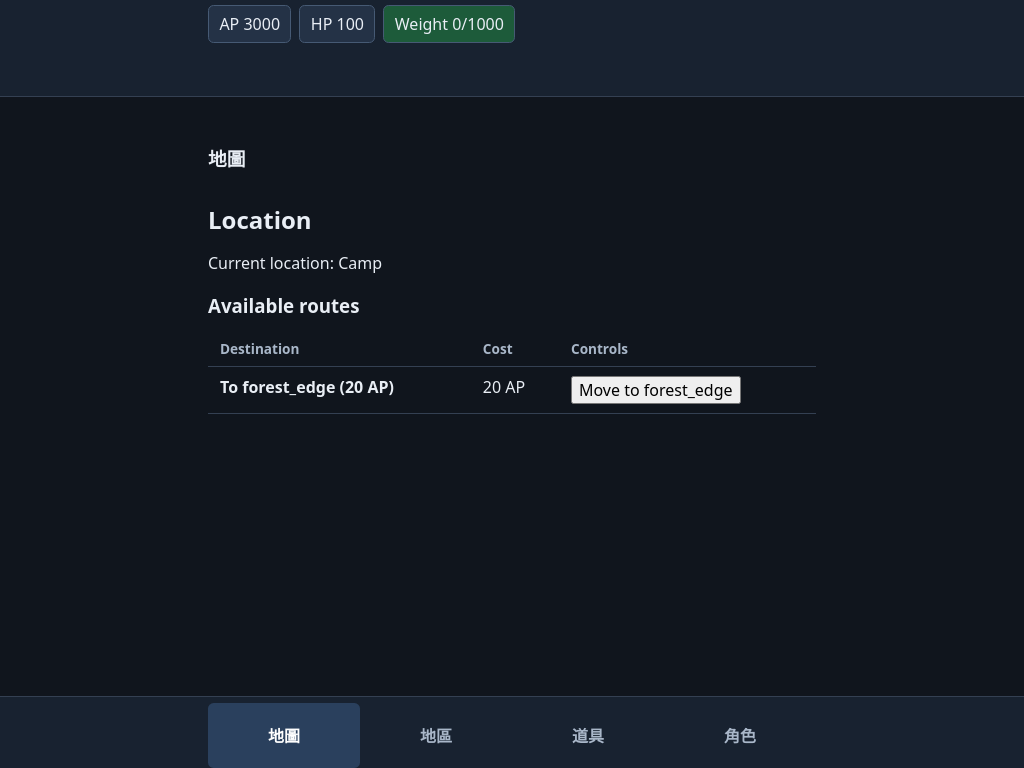
App gameplay tab integration › renames from Character without reloading and applies the authoritative user
The width and height of the screenshot is (1024, 768).
Expected: the heading "地圖" is shown, [208, 146, 245, 171]
Click the button "角色". click: [740, 735]
box: [664, 703, 816, 767]
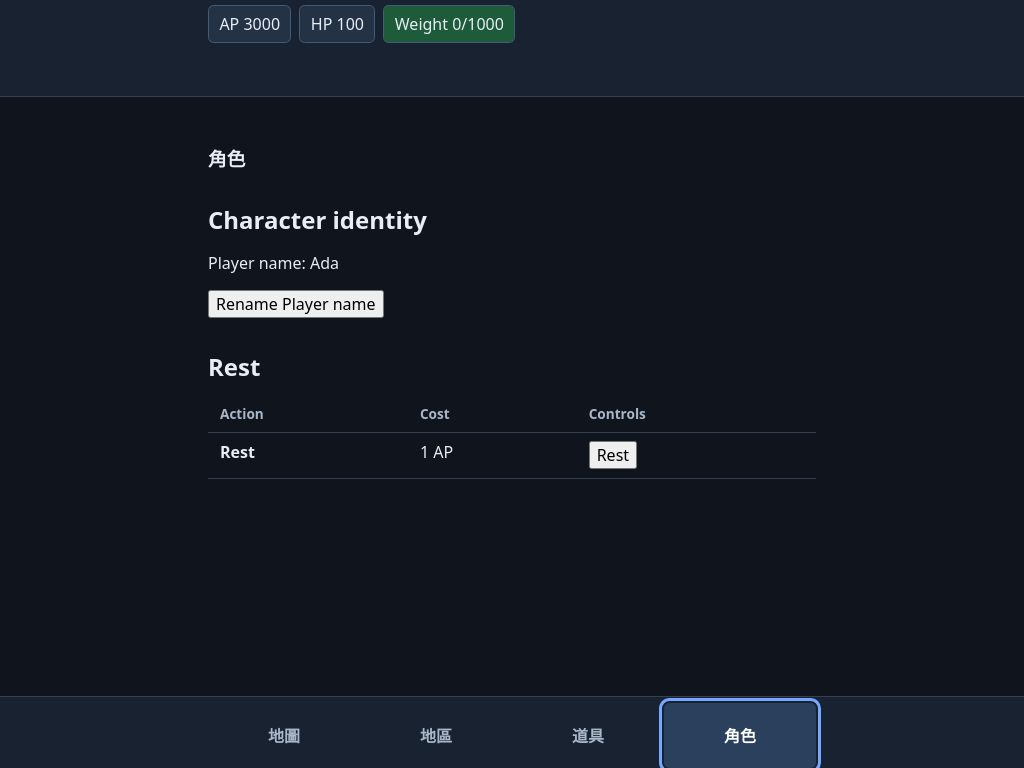
Expected: the heading "角色" is shown, [208, 146, 245, 171]
Click the button "Rename Player name". click: [296, 304]
box: [208, 290, 384, 318]
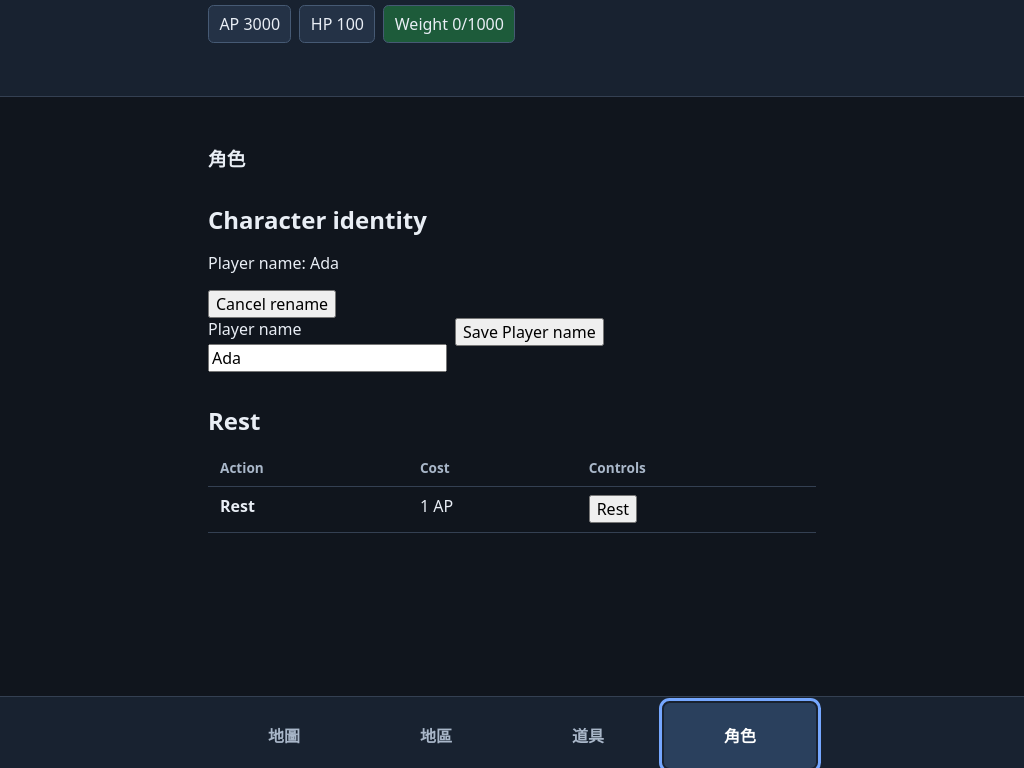
Replace the text in the field labelled "Player name" with "Renamed". click: [328, 358]
box: [208, 344, 447, 372]
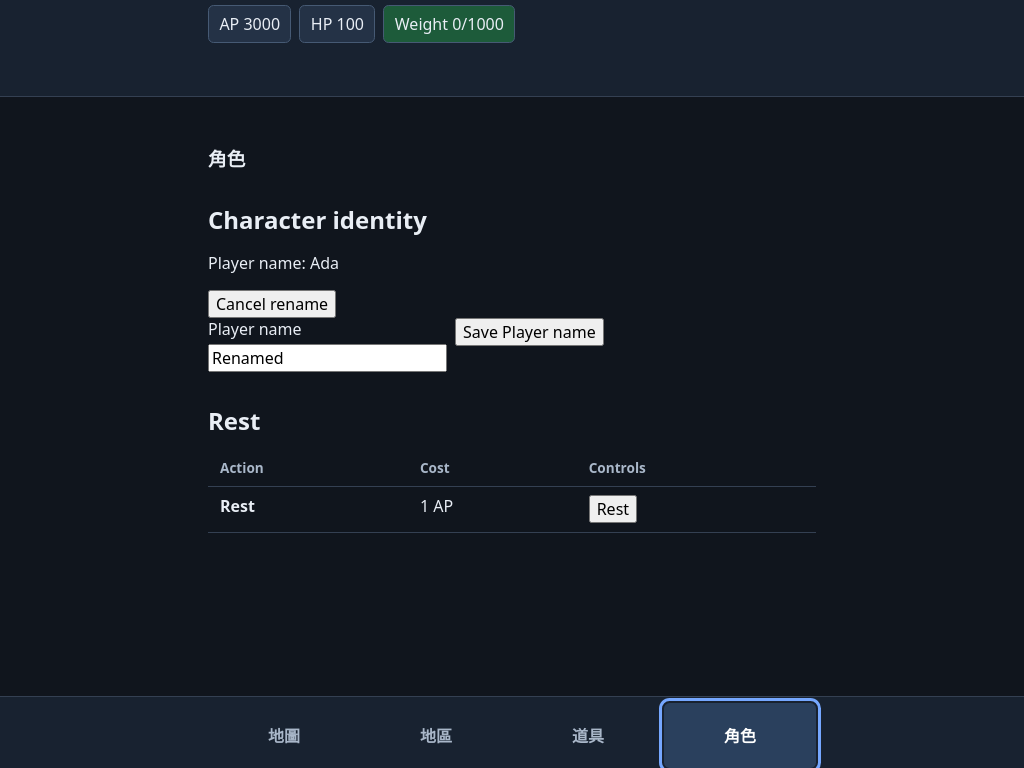
Click the button "Save Player name". click: [529, 332]
box: [455, 318, 604, 346]
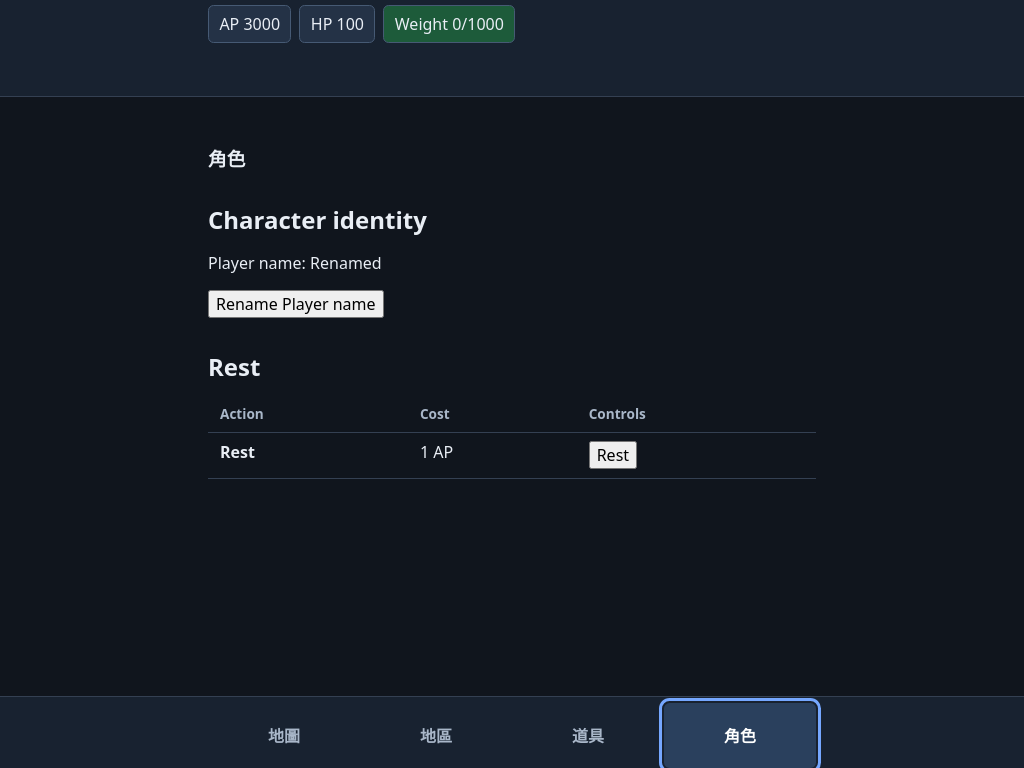
Expected: the text "Player name: Renamed" is shown, [208, 252, 382, 274]
Expected: the button "Rename Player name" is shown, [208, 290, 384, 318]
